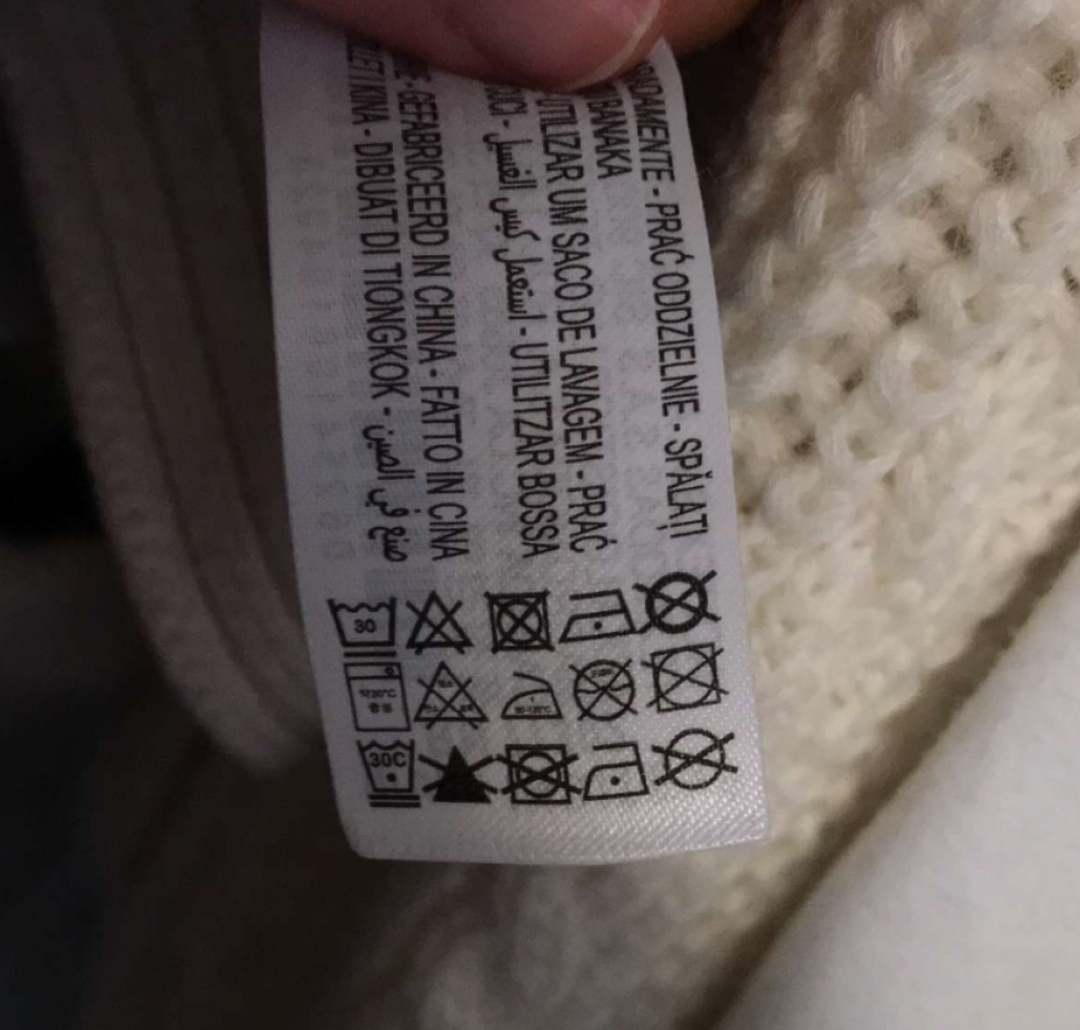do not bleach: (402, 585, 480, 666)
do not dry clean: (626, 567, 722, 637)
do not tumble dry: (479, 578, 569, 664)
iron low temp: (553, 580, 640, 655)
wash at or below 30: (316, 583, 411, 662)
